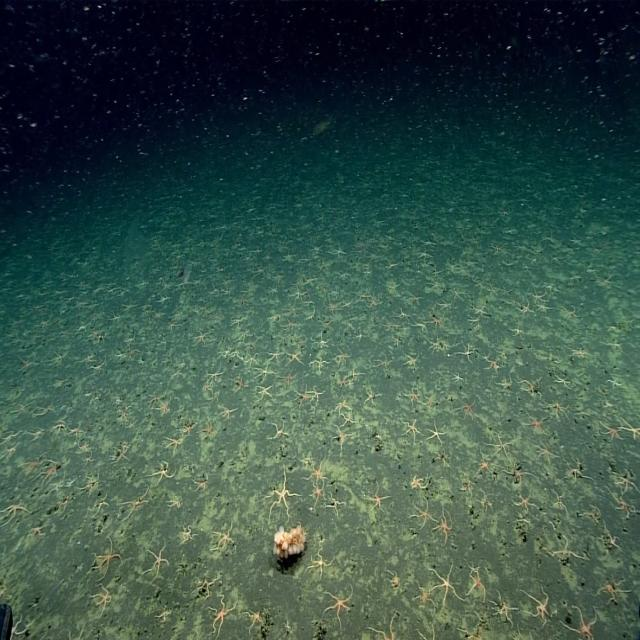brittle-stars: (262, 468, 305, 523), (426, 561, 461, 612), (558, 601, 603, 640), (521, 580, 558, 627), (316, 582, 356, 625), (202, 591, 240, 629), (137, 536, 169, 576), (121, 484, 154, 521), (206, 518, 239, 554), (493, 584, 520, 628), (242, 598, 272, 635), (544, 537, 580, 565), (366, 612, 401, 640), (463, 566, 488, 605), (397, 412, 424, 448), (426, 413, 452, 450), (484, 431, 516, 461), (308, 548, 336, 581), (188, 570, 216, 602), (598, 576, 626, 608), (92, 539, 119, 571), (519, 368, 545, 401), (531, 433, 560, 462), (365, 487, 397, 513), (438, 511, 460, 547), (265, 419, 292, 448), (469, 448, 495, 478), (612, 490, 638, 518), (593, 421, 622, 446), (611, 466, 635, 496), (89, 580, 114, 608), (604, 522, 624, 557), (411, 500, 436, 528), (454, 395, 479, 423), (413, 576, 431, 614), (518, 409, 542, 437), (191, 467, 215, 494), (9, 608, 29, 640), (620, 413, 640, 445), (0, 500, 21, 530), (306, 463, 329, 490), (174, 518, 196, 546), (497, 364, 517, 394), (80, 473, 102, 500), (64, 619, 92, 640), (510, 490, 536, 512), (370, 351, 396, 373), (150, 459, 171, 486), (503, 458, 525, 482), (309, 487, 330, 512), (412, 621, 439, 640), (326, 426, 349, 448), (567, 457, 588, 481), (290, 388, 312, 410), (360, 380, 376, 410), (256, 378, 274, 403), (177, 416, 198, 437), (2, 439, 22, 461), (50, 416, 70, 438), (60, 424, 82, 444), (547, 392, 564, 417), (165, 436, 186, 456), (116, 438, 131, 466), (0, 426, 23, 444), (198, 417, 215, 441), (403, 348, 420, 372), (330, 488, 345, 515), (44, 457, 60, 482), (218, 403, 238, 423), (456, 339, 477, 358), (585, 501, 599, 529), (53, 493, 70, 516), (23, 453, 38, 479), (26, 427, 46, 446), (280, 368, 300, 387), (9, 404, 34, 419), (306, 379, 322, 402), (487, 349, 500, 377), (28, 520, 46, 540), (386, 565, 403, 586), (404, 386, 420, 408), (308, 358, 327, 376), (566, 341, 585, 359), (332, 344, 346, 368), (458, 475, 476, 493), (87, 496, 110, 510), (410, 470, 426, 490), (156, 599, 170, 621), (547, 489, 565, 506), (419, 395, 436, 413), (230, 375, 248, 392), (600, 395, 616, 414), (332, 397, 348, 416), (465, 557, 480, 577), (78, 455, 98, 469), (16, 357, 40, 368), (604, 378, 622, 392), (341, 413, 359, 427), (337, 371, 349, 392), (202, 367, 224, 378), (550, 378, 572, 389), (449, 368, 463, 384), (48, 352, 64, 366), (481, 492, 491, 514), (283, 616, 293, 636), (117, 402, 128, 420), (168, 494, 182, 508), (78, 442, 91, 457), (158, 400, 170, 416), (540, 354, 556, 366), (78, 354, 96, 364), (91, 364, 107, 375), (200, 383, 216, 392), (39, 405, 54, 414), (152, 394, 160, 404)
